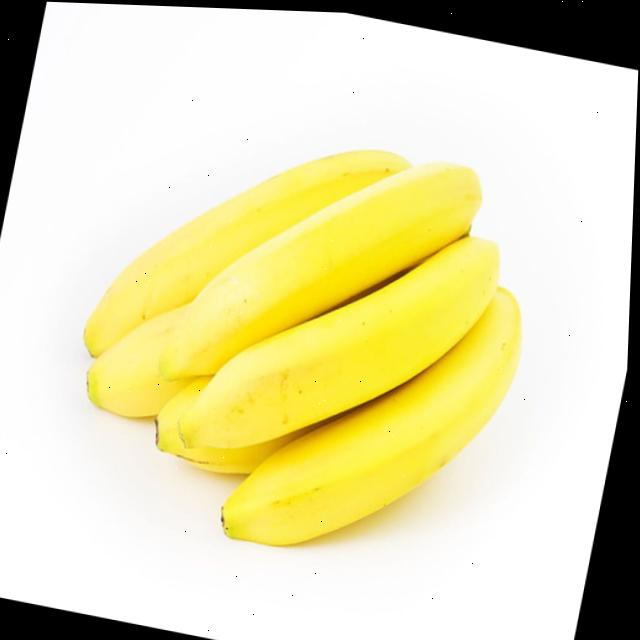Banana: (226, 284, 524, 542), (162, 159, 483, 378), (182, 235, 502, 447), (86, 148, 411, 356), (90, 303, 193, 416)
